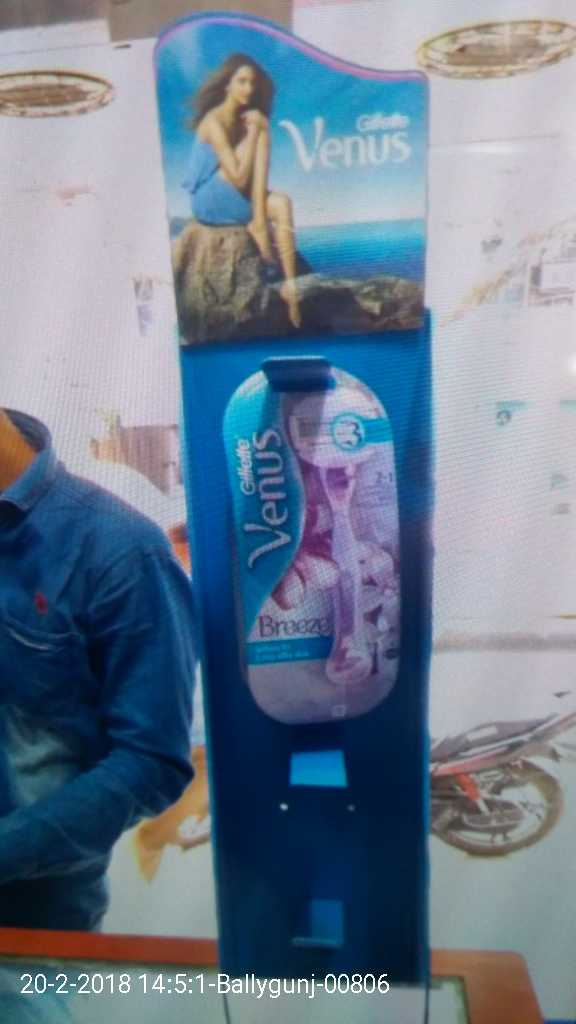venus: (214, 371, 409, 717)
